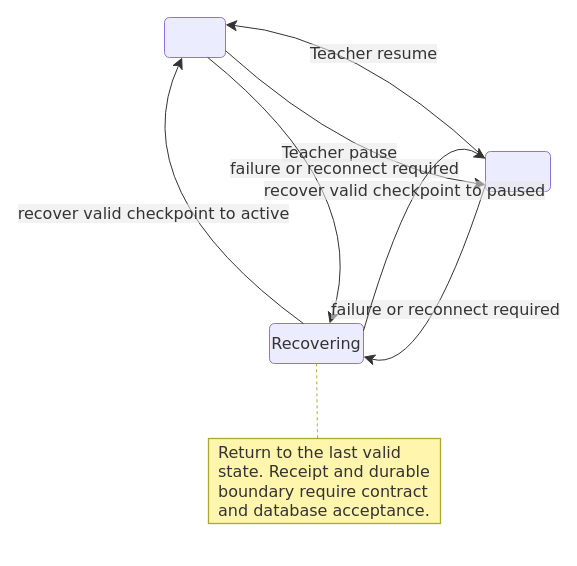
Some shapes in this 577 by 566 pixel diagram are drawn without their labels. The box of each missing label's shape, as (x1, y1, x2, y2) in pixels:
Active: (164, 16, 226, 58)
Paused: (484, 150, 550, 192)
